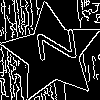Z: (27, 28, 77, 65)
